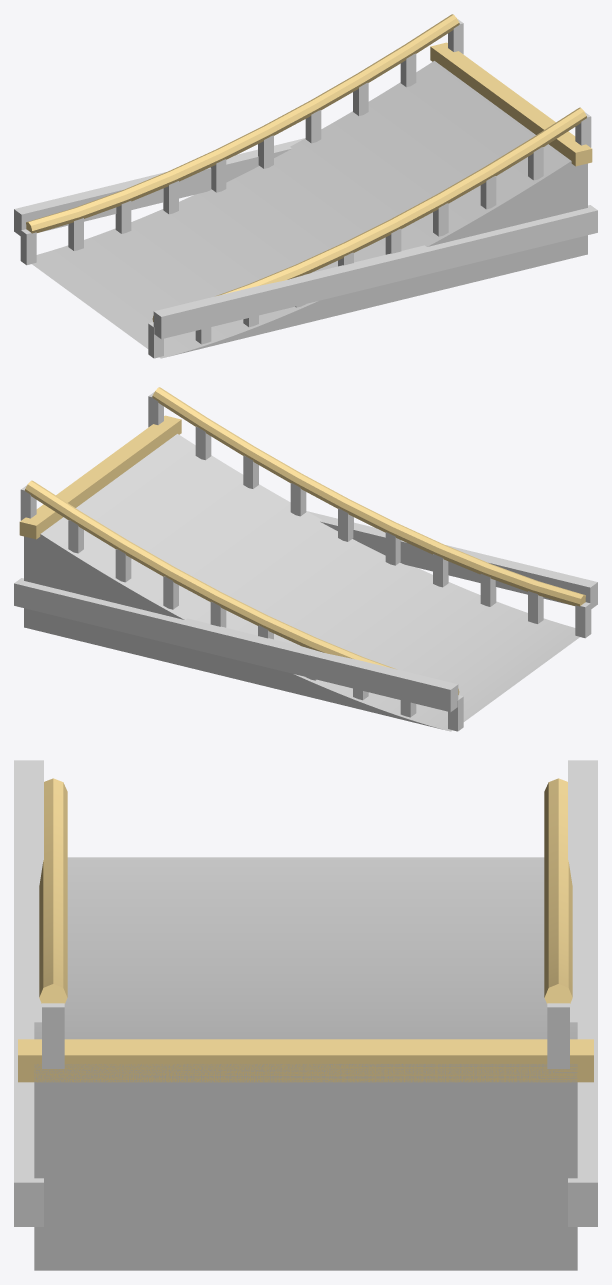
File: ench_ramp_bridge.fbx
3 views of the same model, one above another, from view 1: azimuth 30°, elevation 25°; view 2: azimuth 150°, elevation 25°; view 3: azimuth 270°, elevation 25° (orthographic). The views are drawn at different scales.
Parts seen in each view (by area): view 1: stonepale_1, stonemoss_1, gold_1; view 2: stonepale_1, stonemoss_1, gold_1; view 3: stonepale_1, gold_1, stonemoss_1.
Boxes of the visible parts, x1=… form: stonepale_1: x1=32, y1=61, x2=587, y2=358; stonemoss_1: x1=14, y1=19, x2=597, y2=358; gold_1: x1=26, y1=14, x2=592, y2=321; stonepale_1: x1=24, y1=434, x2=579, y2=731; stonemoss_1: x1=14, y1=392, x2=597, y2=731; gold_1: x1=19, y1=387, x2=585, y2=694; stonepale_1: x1=34, y1=857, x2=577, y2=1270; gold_1: x1=18, y1=778, x2=593, y2=1082; stonemoss_1: x1=14, y1=760, x2=597, y2=1226.
Bounding box in the file's own units: 1.84 × 0.5788 × 1.08.
